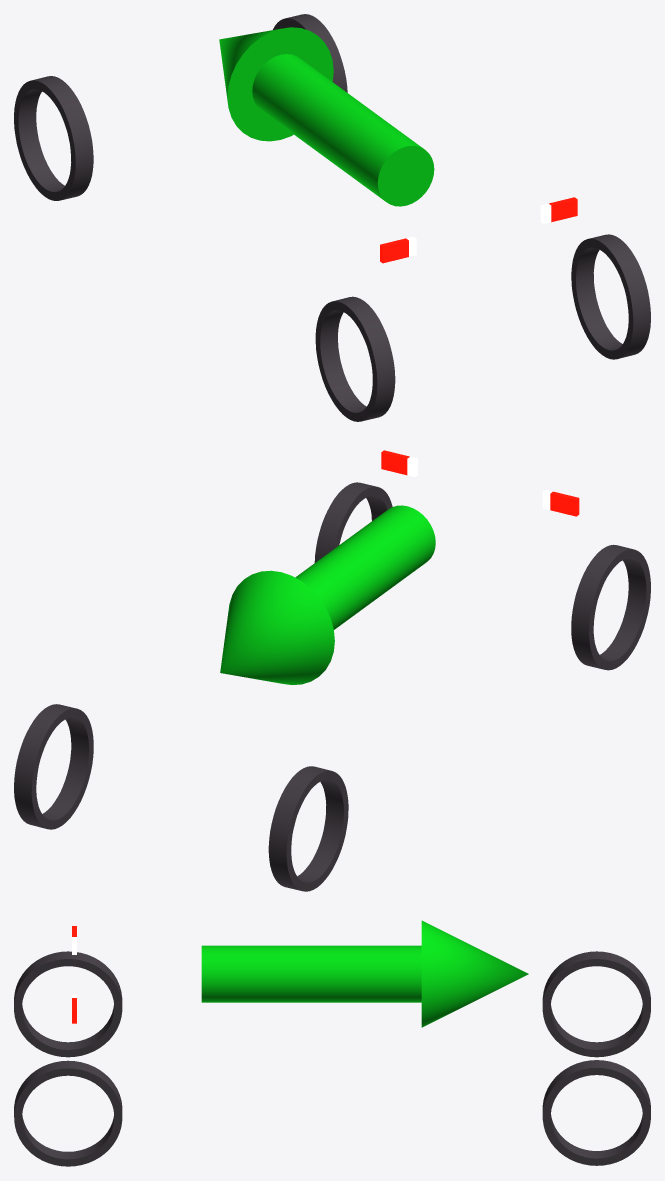
File: default_car.glb
3 renders of one model, top to bottom at view 1: azimuth 30°, elevation 25°; view 2: azimuth 150°, elevation 25°; view 3: azimuth 270°, elevation 25°, orthographic. The views are drawn at different scales.
Parts seen in each view (by area): view 1: BODY, Tire_tireBR, Tire_tireBL, Tire_tireFL, Tire_tireFR; view 2: BODY, Tire_tireBL, Tire_tireFL, Tire_tireFR, Tire_tireBR; view 3: BODY, Tire_tireFR, Tire_tireBR, Tire_tireFL, Tire_tireBL.
Boxes of the visible parts, x1,y1,x2,y2 form: BODY: (219,27,577,263); Tire_tireBR: (571,234,650,359); Tire_tireBL: (315,296,395,421); Tire_tireFL: (14,76,93,200); Tire_tireFR: (273,14,347,92); BODY: (220,450,579,684); Tire_tireBL: (571,544,650,670); Tire_tireFL: (268,766,348,891); Tire_tireFR: (14,704,93,829); Tire_tireBR: (314,482,392,562); BODY: (72,920,528,1027); Tire_tireFR: (542,1060,650,1165); Tire_tireBR: (14,1060,122,1166); Tire_tireFL: (542,951,650,1057); Tire_tireBL: (14,951,122,1057).
Size of the model in its own units: 1.51 by 1.1 by 3.48.
